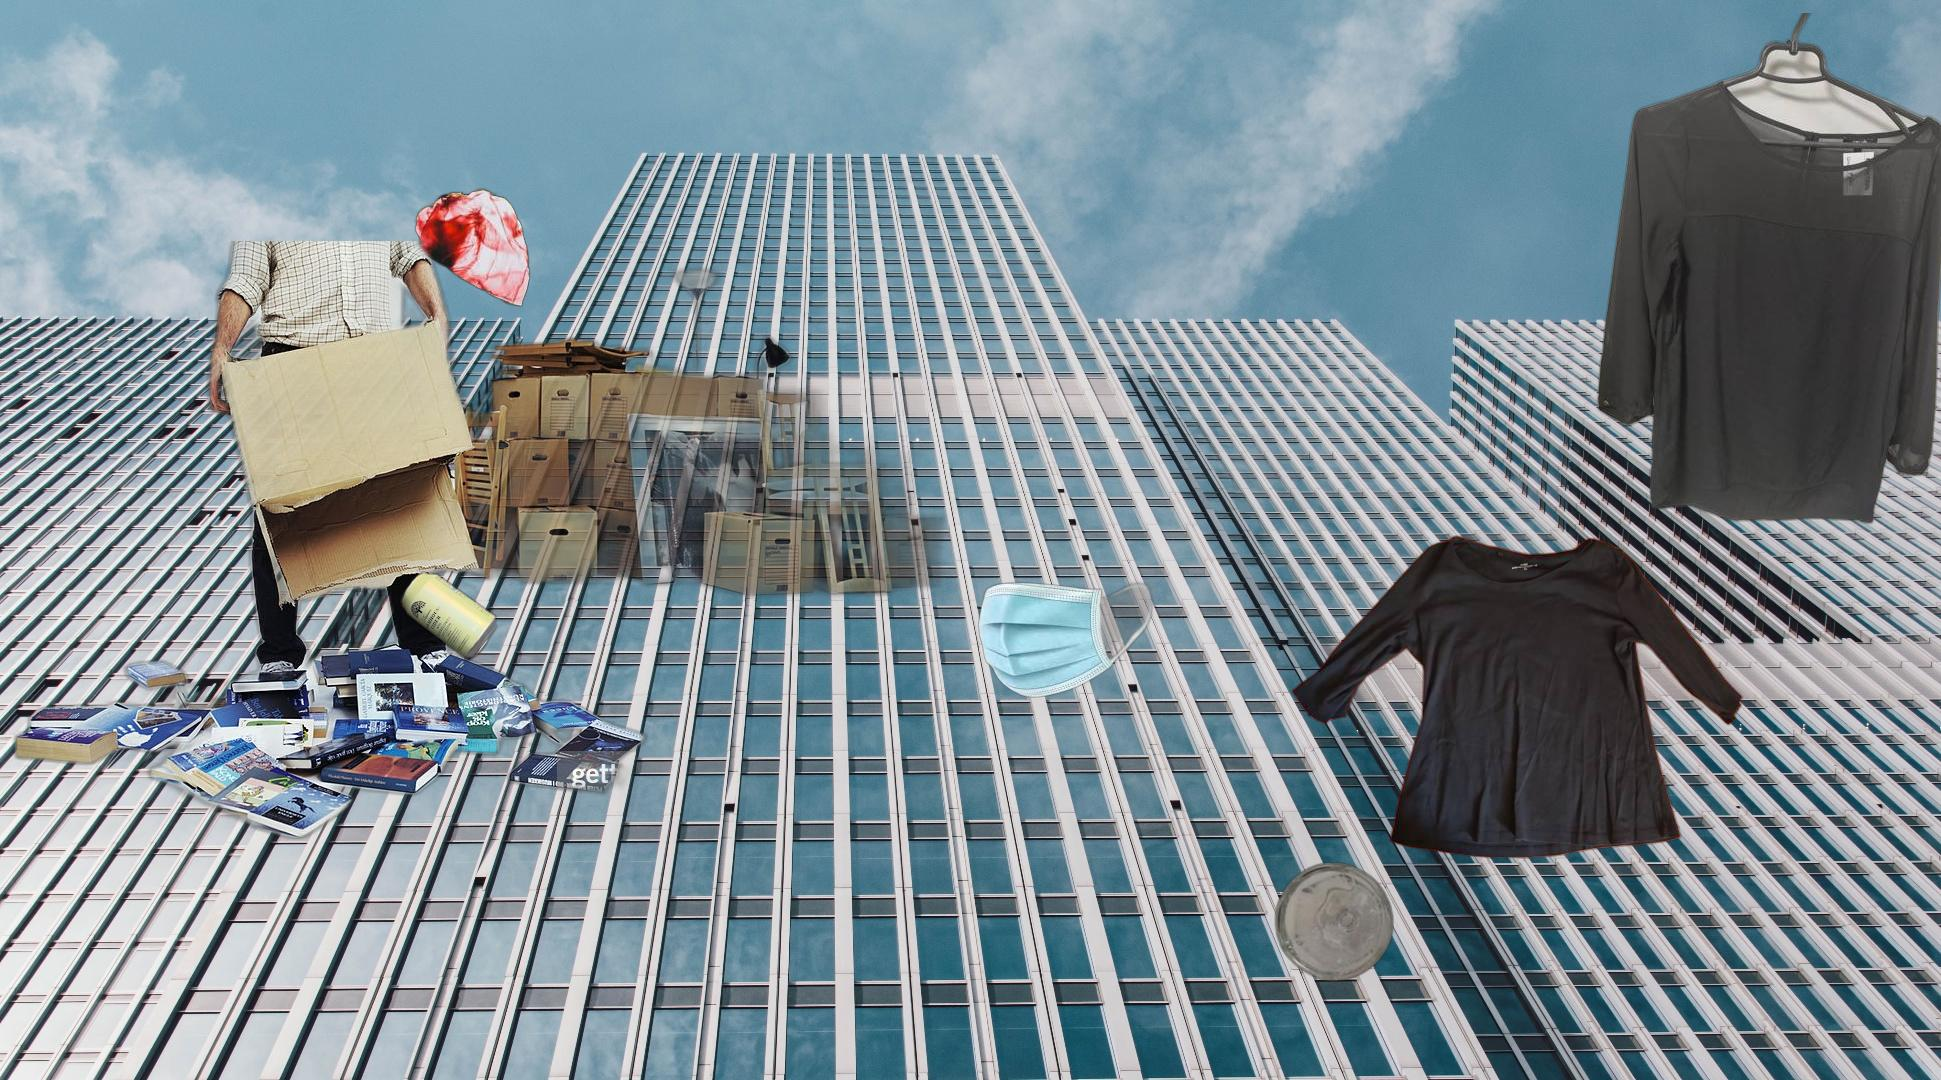clothes: (1595, 13, 1941, 529), (1287, 533, 1747, 862)
glass: (1271, 859, 1399, 984)
metal-cans: (396, 565, 501, 664)
plastic-bag: (412, 181, 533, 309)
trash: (974, 579, 1158, 700)
trashbox-cardboard: (5, 241, 956, 846)
